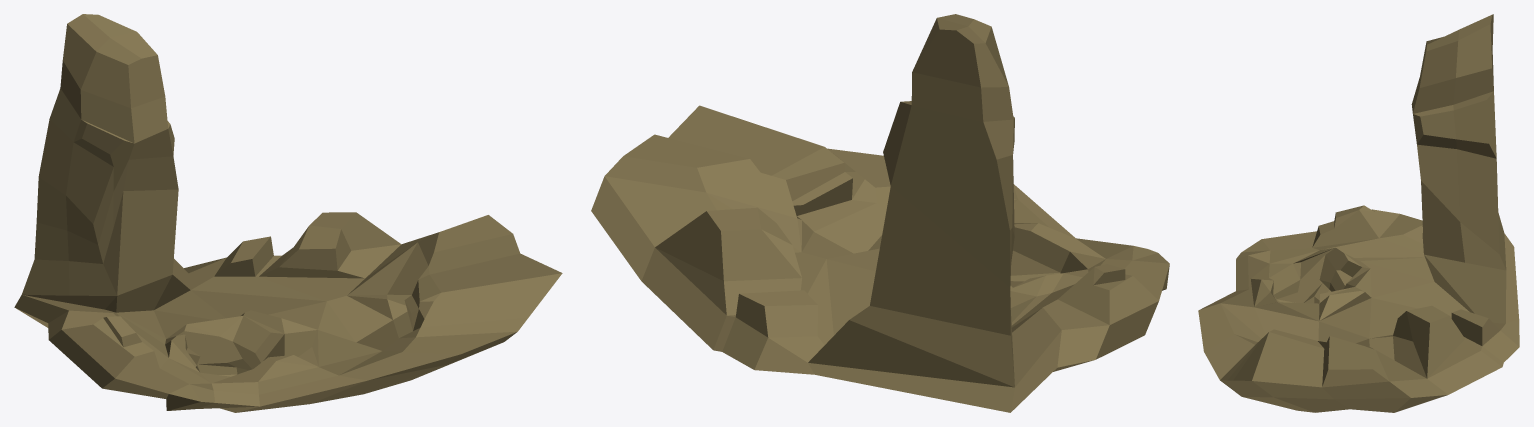
File: unity_uv_1 1.fbx
3 renders of one model, left to right at view 1: azimuth 30°, elevation 25°; view 2: azimuth 150°, elevation 25°; view 3: azimuth 270°, elevation 25°, orthographic. The views are drawn at different scales.
Parts seen in each view (by area): view 1: 平面.002; view 2: 平面.002; view 3: 平面.002.
Part boxes in pixels (bbox=[...]): 平面.002: bbox=[14, 14, 562, 412]; 平面.002: bbox=[591, 14, 1169, 412]; 平面.002: bbox=[1198, 14, 1519, 412].
Size of the model in its own units: 259 by 201 by 194.
